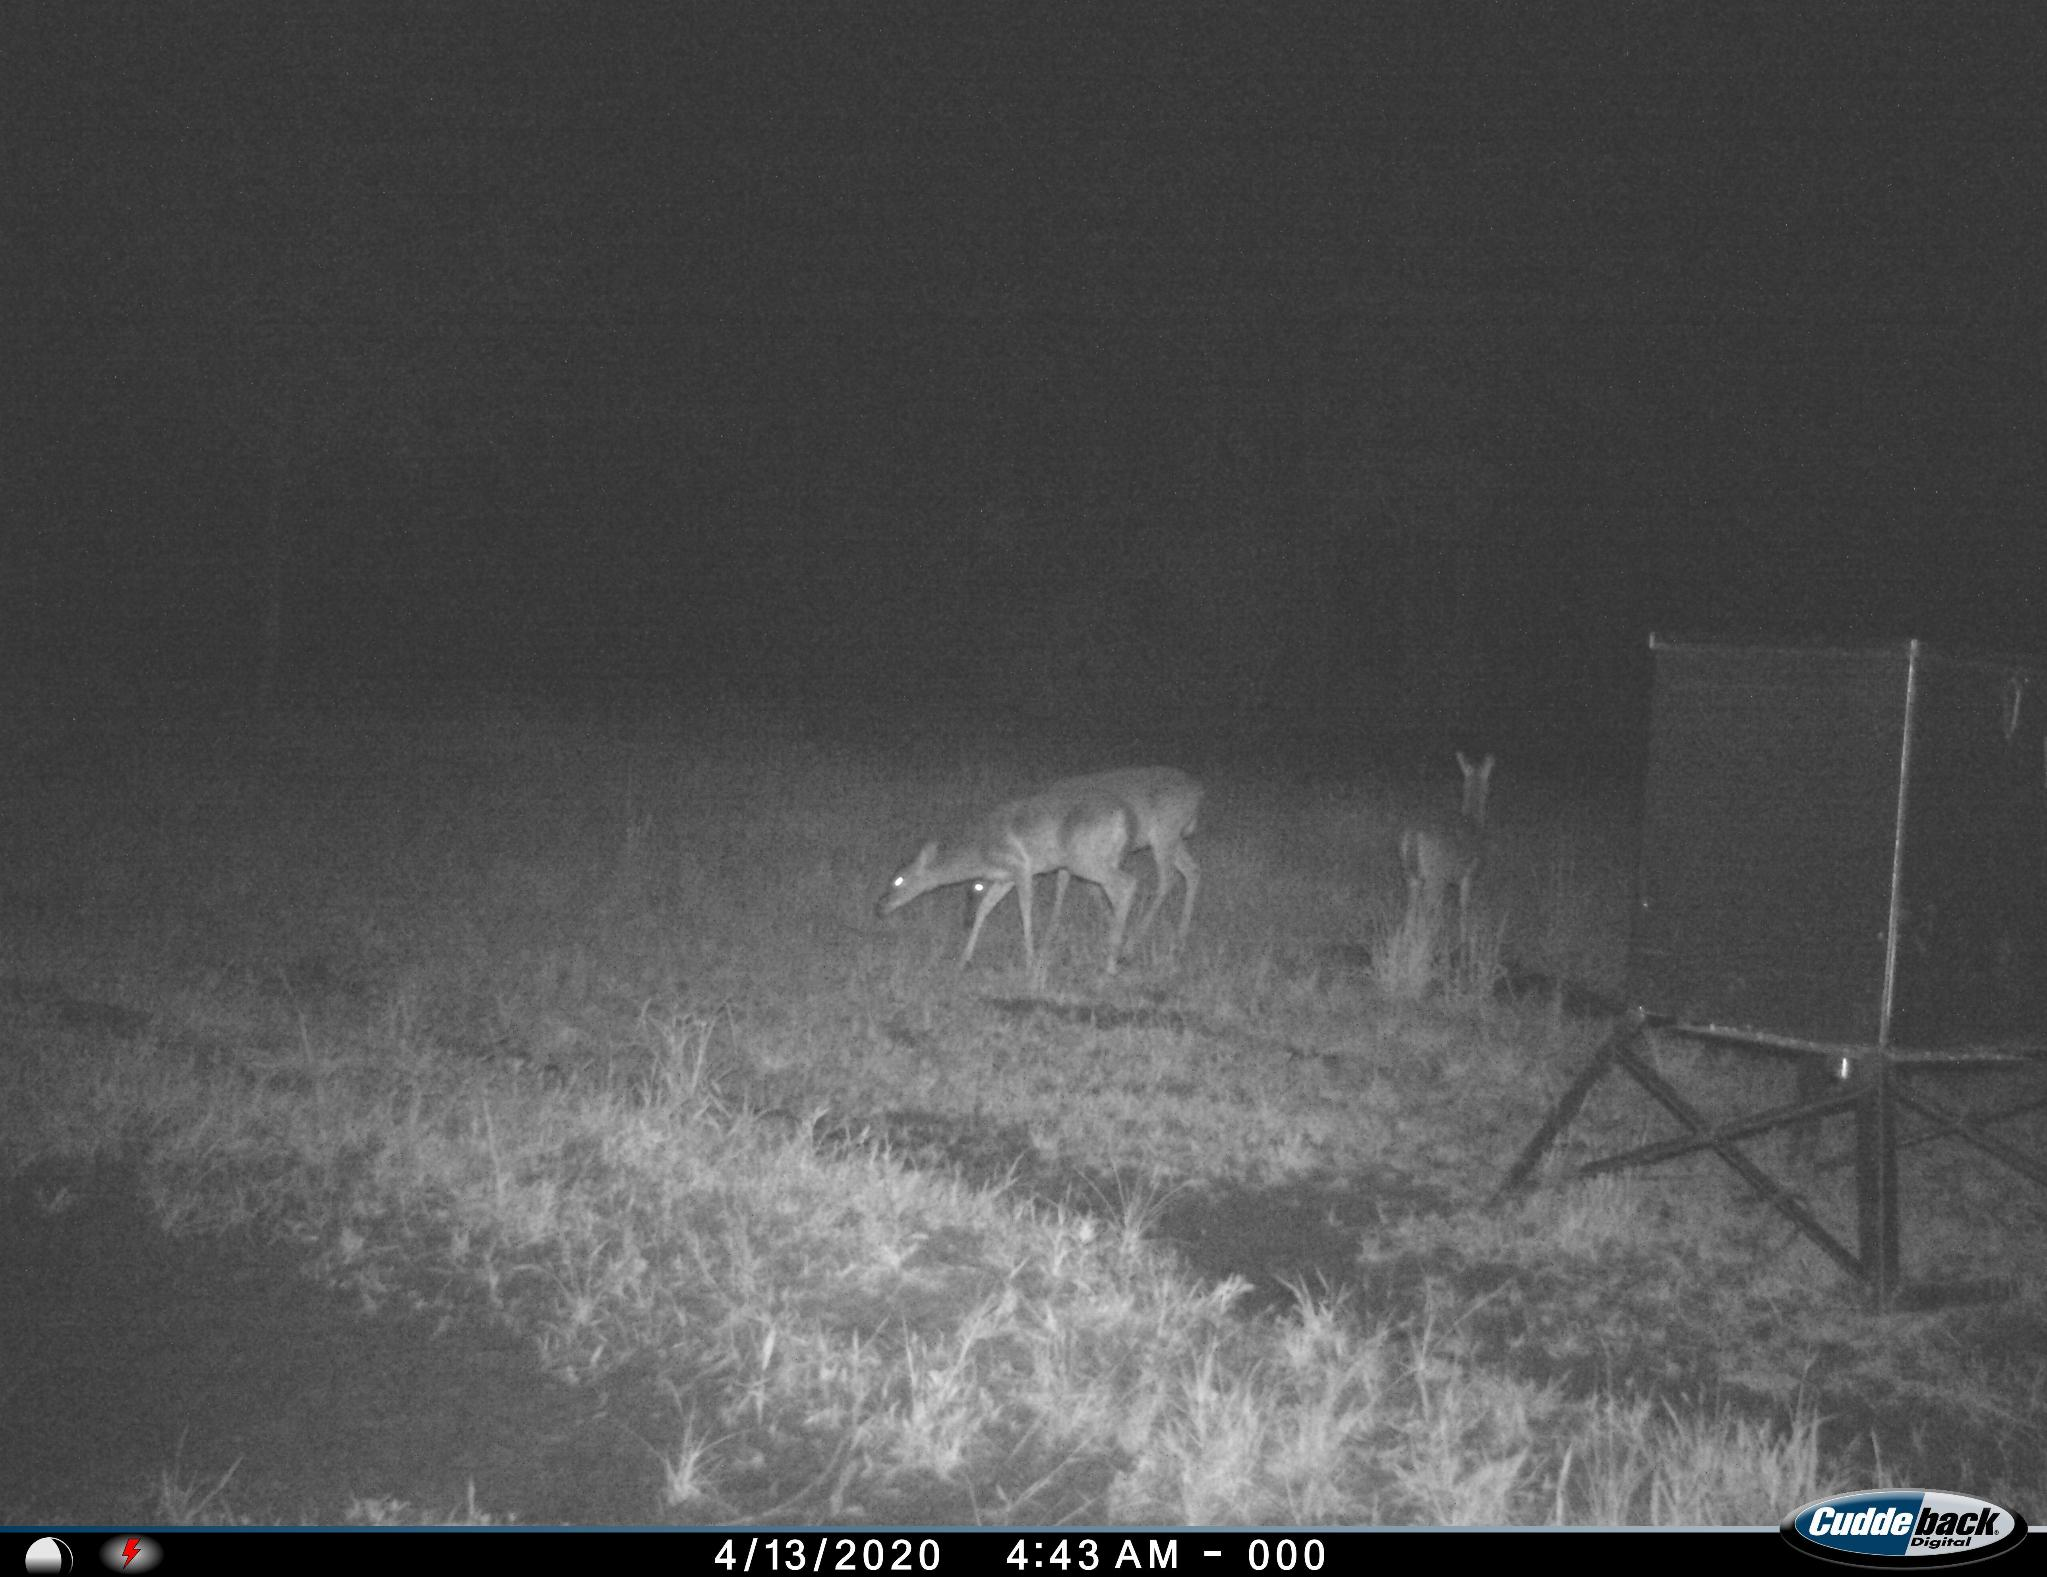Deer: (868, 779, 1143, 997), (1378, 727, 1515, 976), (1138, 750, 1226, 977)
